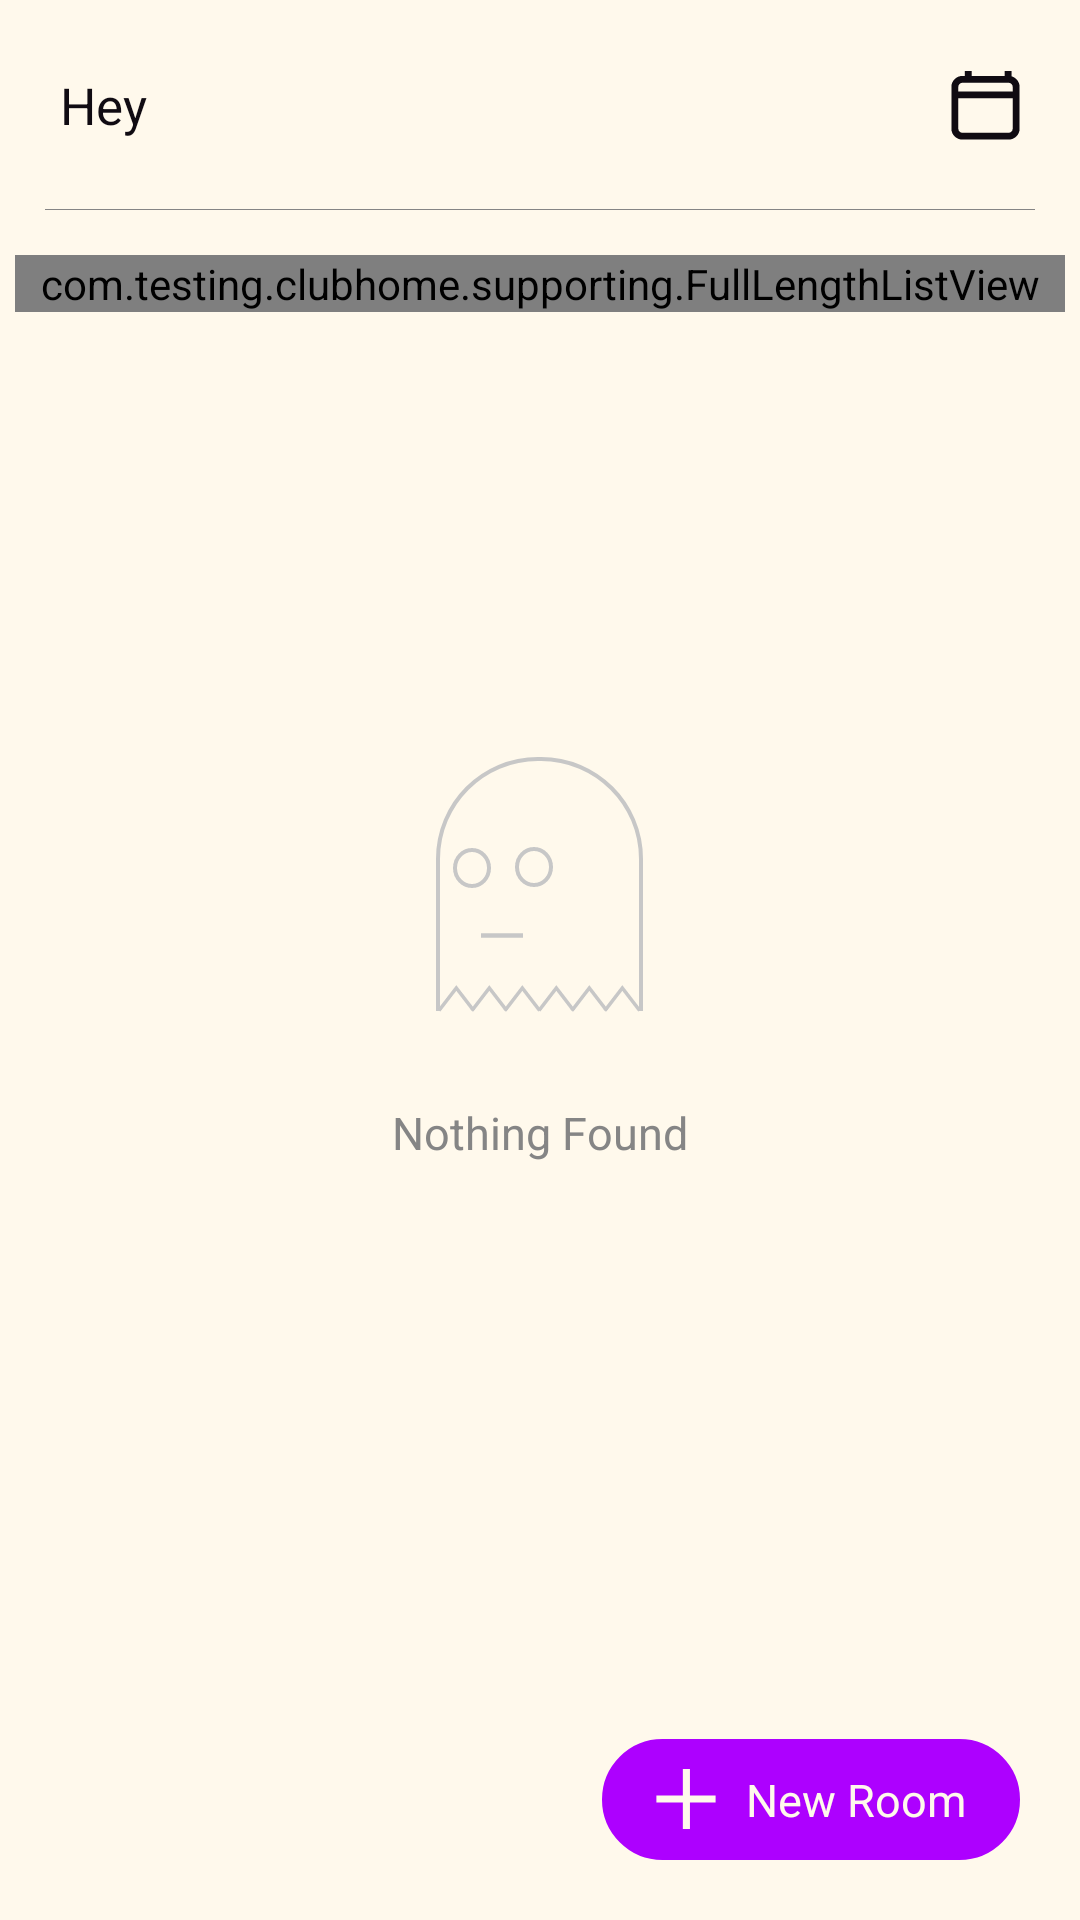

Locate icon controls on the screen. Image size 1080 × 1920, boxes as (x1, y1, x2, y2).
add: (656, 1769, 716, 1829)
calender: (951, 71, 1020, 140)
noresult: (436, 757, 643, 1011)
